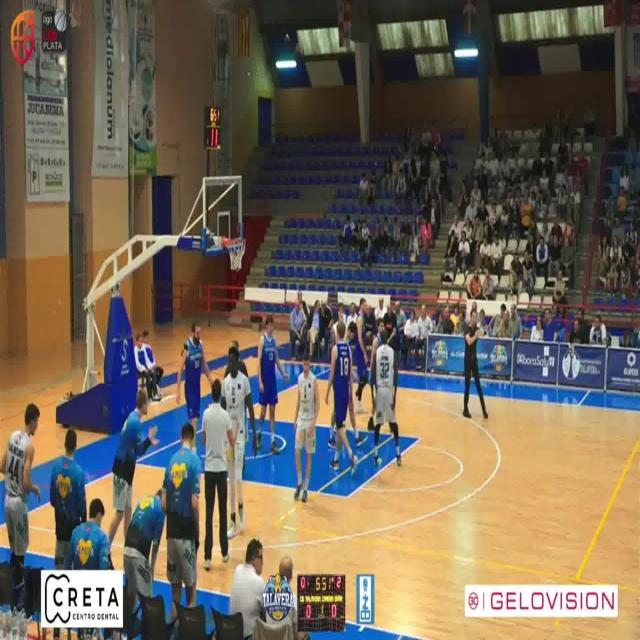basket: (222, 236, 245, 270)
bench person: (0, 403, 39, 611), (108, 389, 158, 548), (161, 422, 201, 607), (123, 489, 165, 638), (202, 379, 234, 571), (49, 428, 86, 569), (64, 499, 111, 570)
player: (221, 345, 257, 538), (325, 321, 358, 475), (176, 321, 212, 452), (257, 315, 288, 454), (371, 328, 402, 465), (294, 351, 320, 502), (355, 297, 369, 413), (326, 303, 347, 362), (371, 319, 386, 375)
referee: (464, 305, 489, 418)
